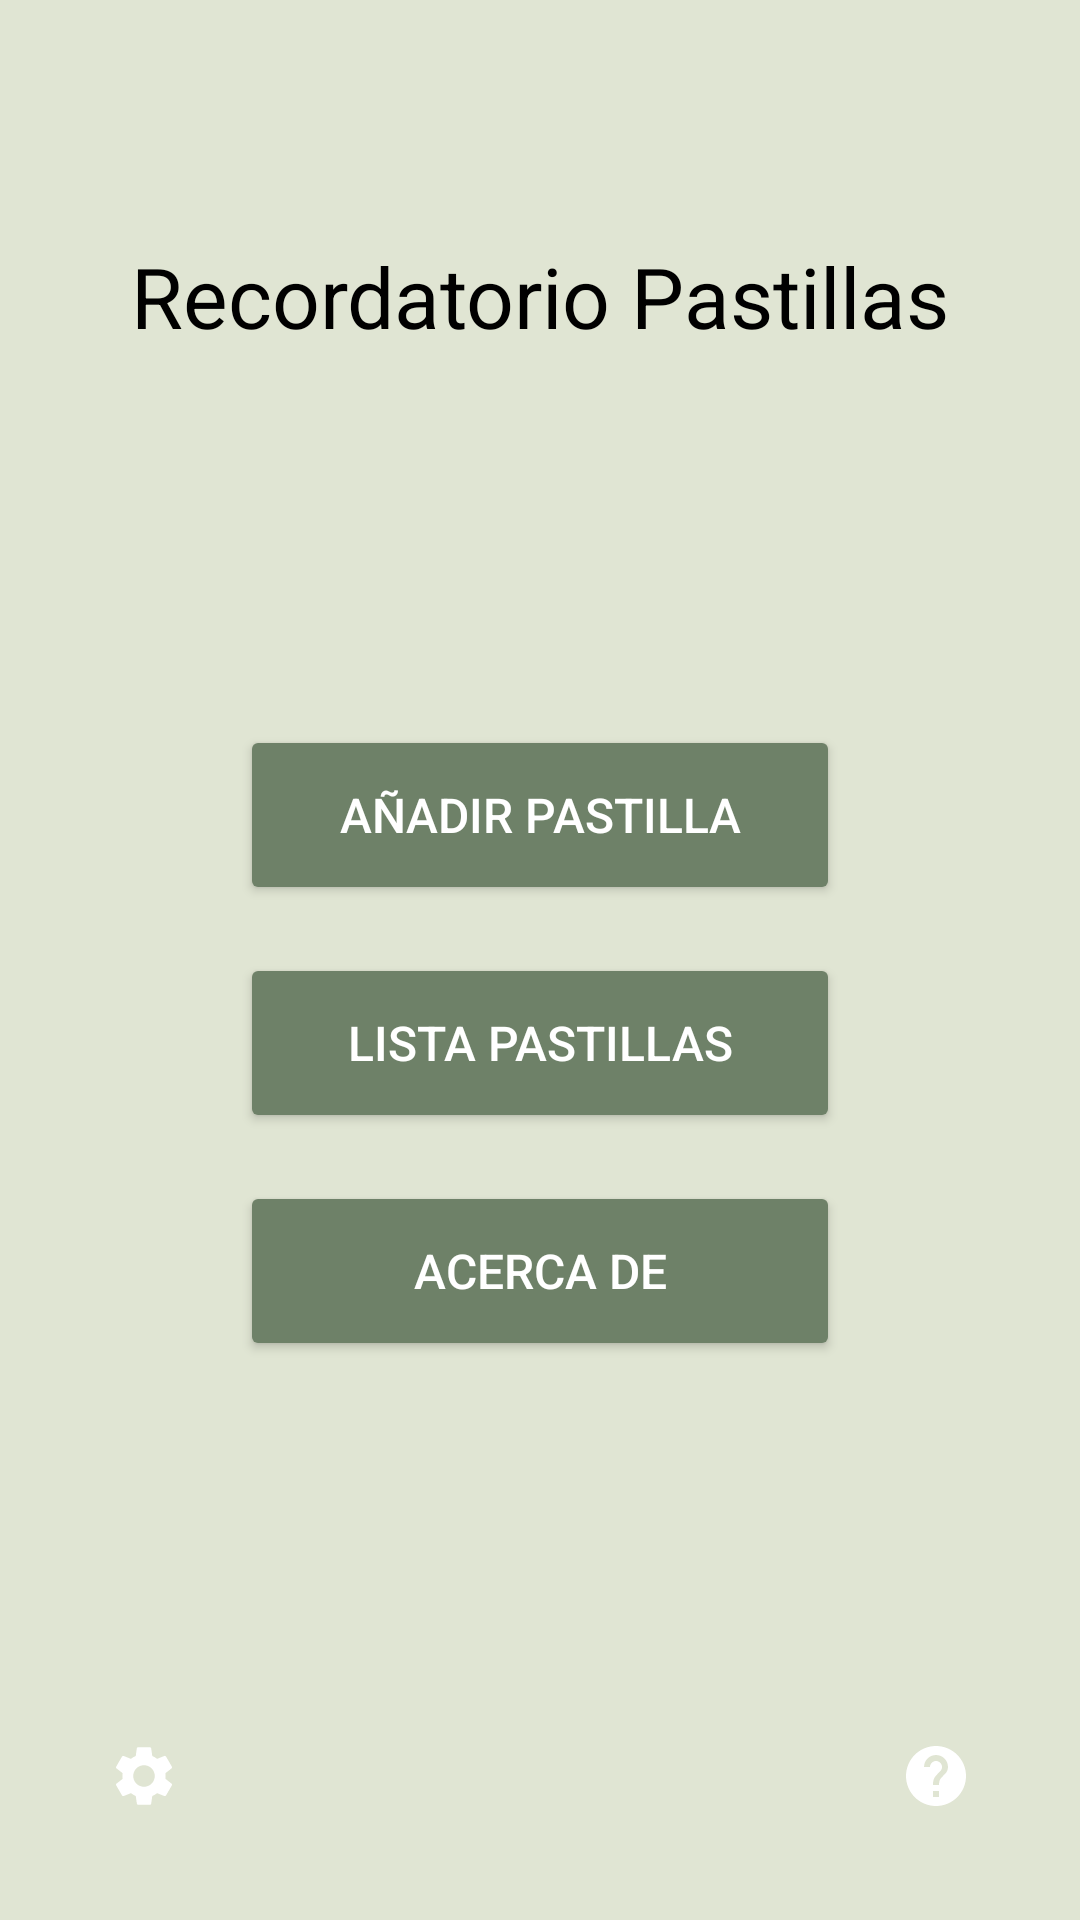

Screen size 1080px x 1920px. Icon name, then its center in pixels as [x,y]:
Ayuda: [936,1776]
Configuración: [144,1776]
